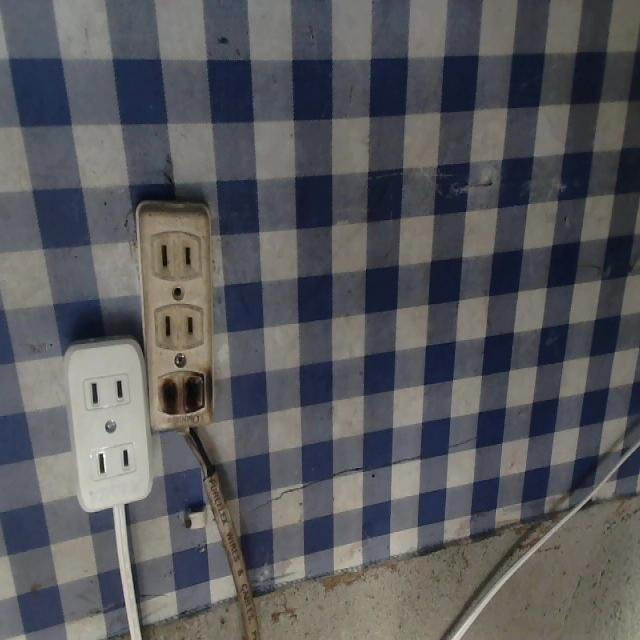-: (157, 363, 215, 421)
